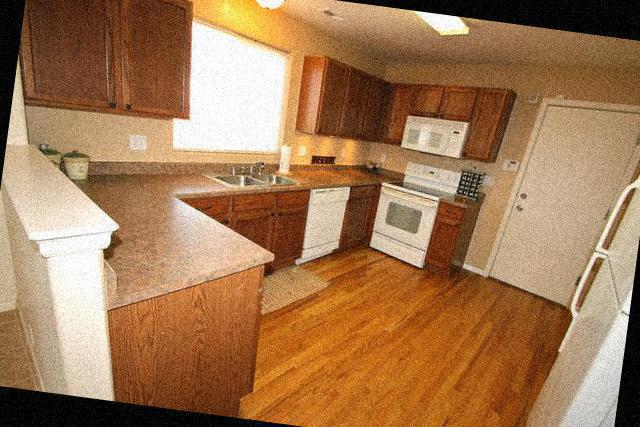Lavaplatos: (201, 154, 306, 199)
